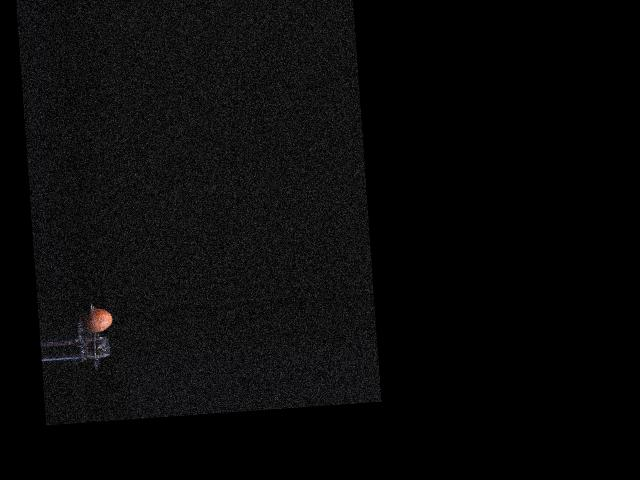egg: (79, 306, 112, 332)
